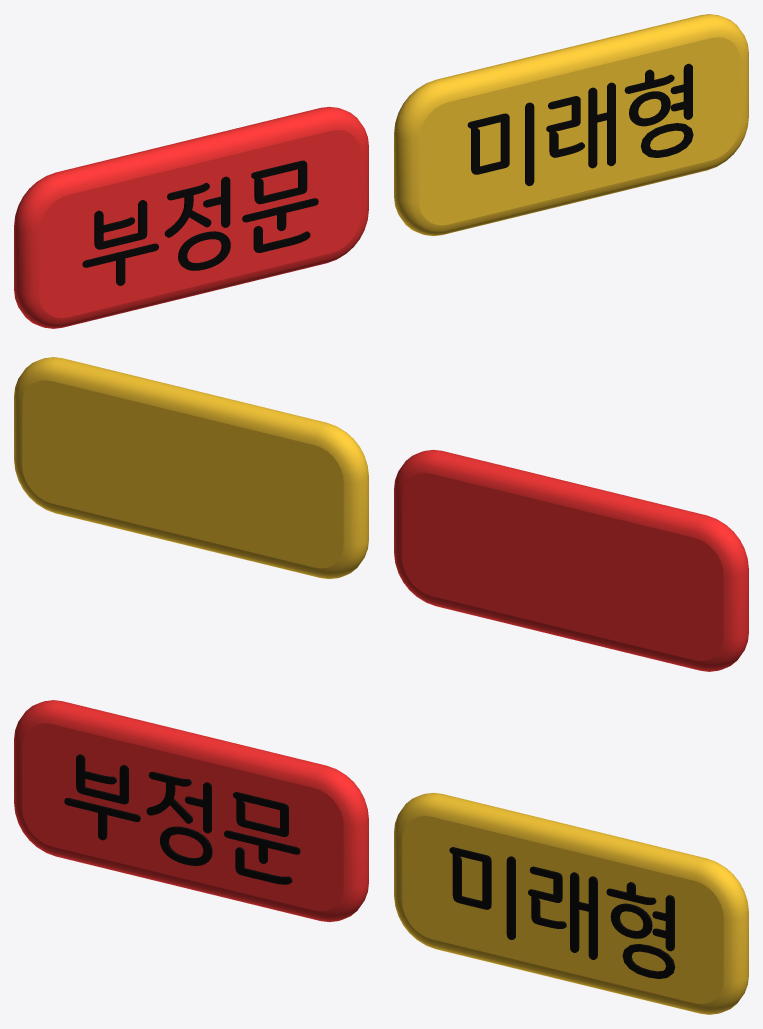
The model's file is #10_Obj_TextBox_002.FBX.
3 views of the same model, one above another, from view 1: azimuth 30°, elevation 25°; view 2: azimuth 150°, elevation 25°; view 3: azimuth 330°, elevation 25° (orthographic).
Parts seen in each view (by area): view 1: textbox_004, textbox_003, Text005, Text006; view 2: textbox_003, textbox_004; view 3: textbox_004, textbox_003, Text005, Text006.
Part boxes in pixels (x1,y1,x2,y2): textbox_004: [14, 106, 368, 328]; textbox_003: [394, 14, 748, 236]; Text005: [467, 63, 693, 185]; Text006: [82, 160, 318, 285]; textbox_003: [14, 357, 368, 579]; textbox_004: [394, 449, 748, 671]; textbox_004: [14, 700, 368, 922]; textbox_003: [394, 792, 748, 1014]; Text005: [449, 847, 675, 978]; Text006: [64, 754, 300, 884].
Size of the model in its own units: 2500 by 108 by 500.
